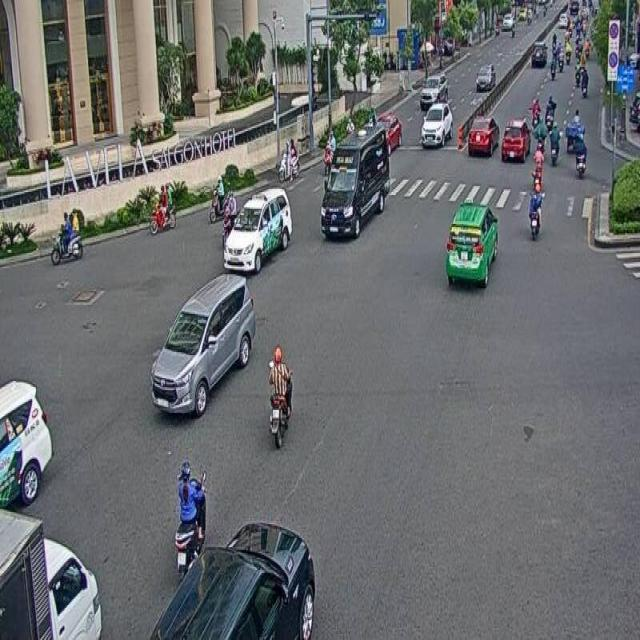car: (149, 516, 321, 640), (150, 273, 256, 419), (224, 186, 292, 271), (444, 200, 498, 290), (466, 116, 498, 158), (501, 114, 530, 160)
motorcycle: (172, 458, 205, 572), (267, 340, 294, 448), (52, 208, 82, 264), (528, 181, 545, 241), (209, 174, 229, 222), (278, 136, 299, 181)
truck: (320, 125, 390, 242)
